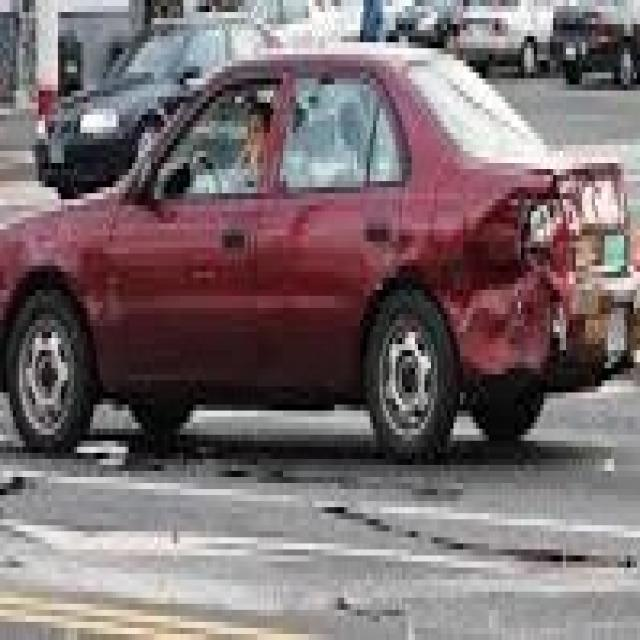moderate: (451, 170, 629, 396)
